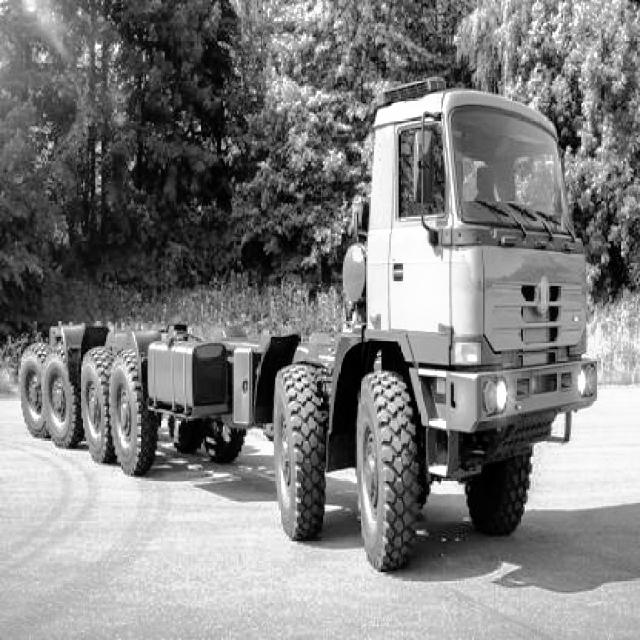HCV: (40, 131, 602, 497)
